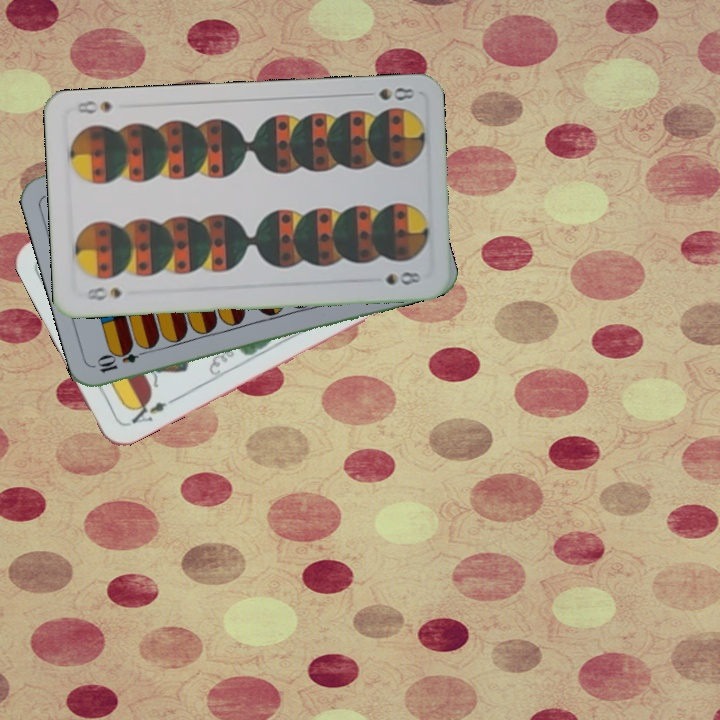E10: (93, 344, 152, 376)
EA: (123, 395, 169, 429)
S8: (358, 83, 416, 103), (82, 283, 125, 303)
